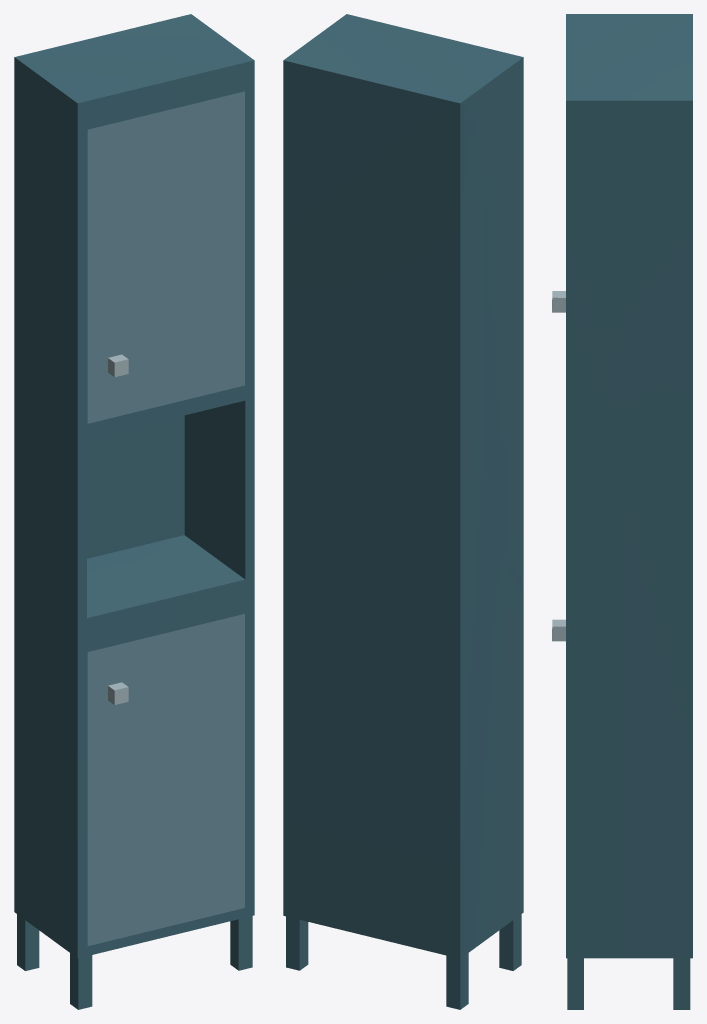
Rendered from closet_025.glb.
The picture shows the model from 3 angles, left to right: view 1: azimuth 30°, elevation 25°; view 2: azimuth 150°, elevation 25°; view 3: azimuth 270°, elevation 25°; orthographic projection.
Parts seen in each view (by area): view 1: closet_025; view 2: closet_025; view 3: closet_025.
Boxes of the visible parts, x1,y1,x2,y2 form: closet_025: [14, 14, 254, 1009]; closet_025: [283, 14, 523, 1009]; closet_025: [552, 14, 692, 1009].
Bounding box in the file's own units: 0.3999 × 1.96 × 0.2749.
Materials: 1 (1 with a texture image).
